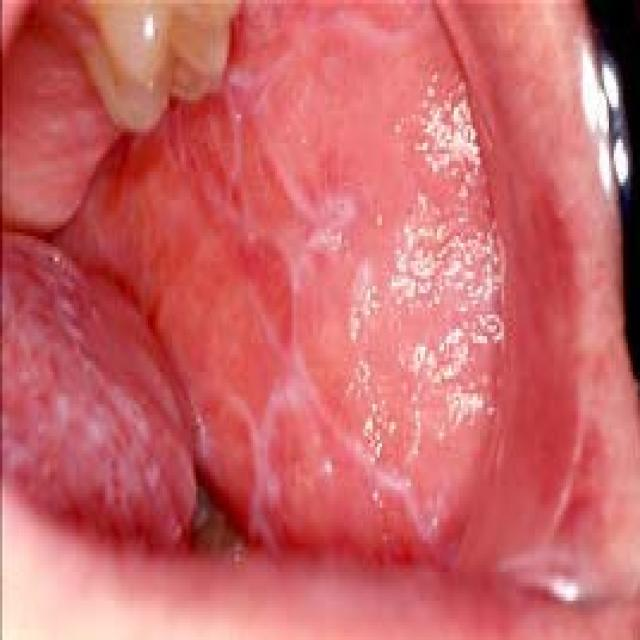leukoplakia-like-detection: (4, 59, 459, 555)
processing_area: (2, 0, 638, 636)
